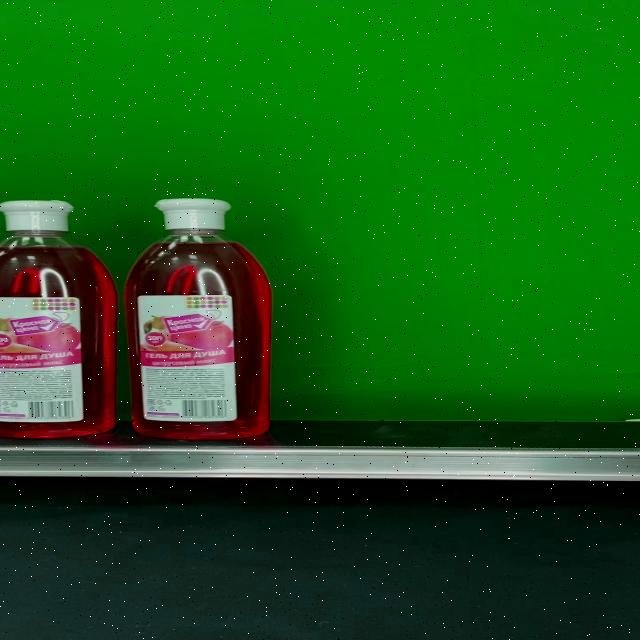Bottle: (125, 198, 272, 439), (0, 200, 116, 438)
Cap: (154, 198, 231, 230), (0, 200, 74, 232)
